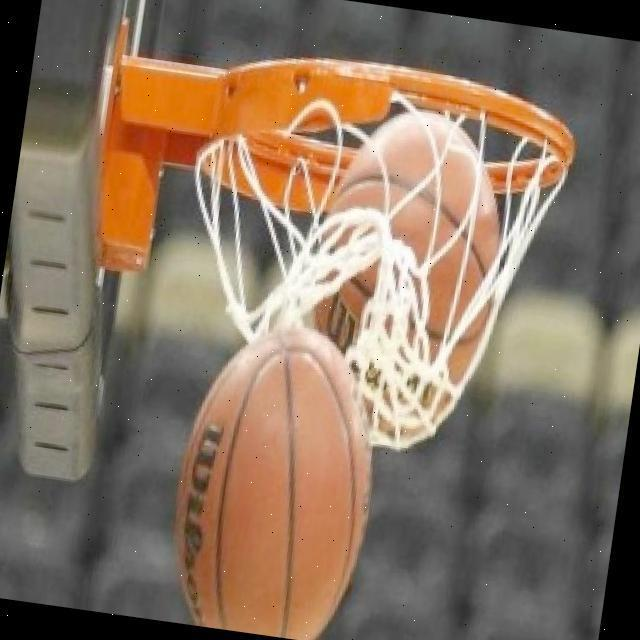ball: (288, 95, 529, 464), (161, 313, 394, 640)
hoop: (206, 57, 577, 196)
